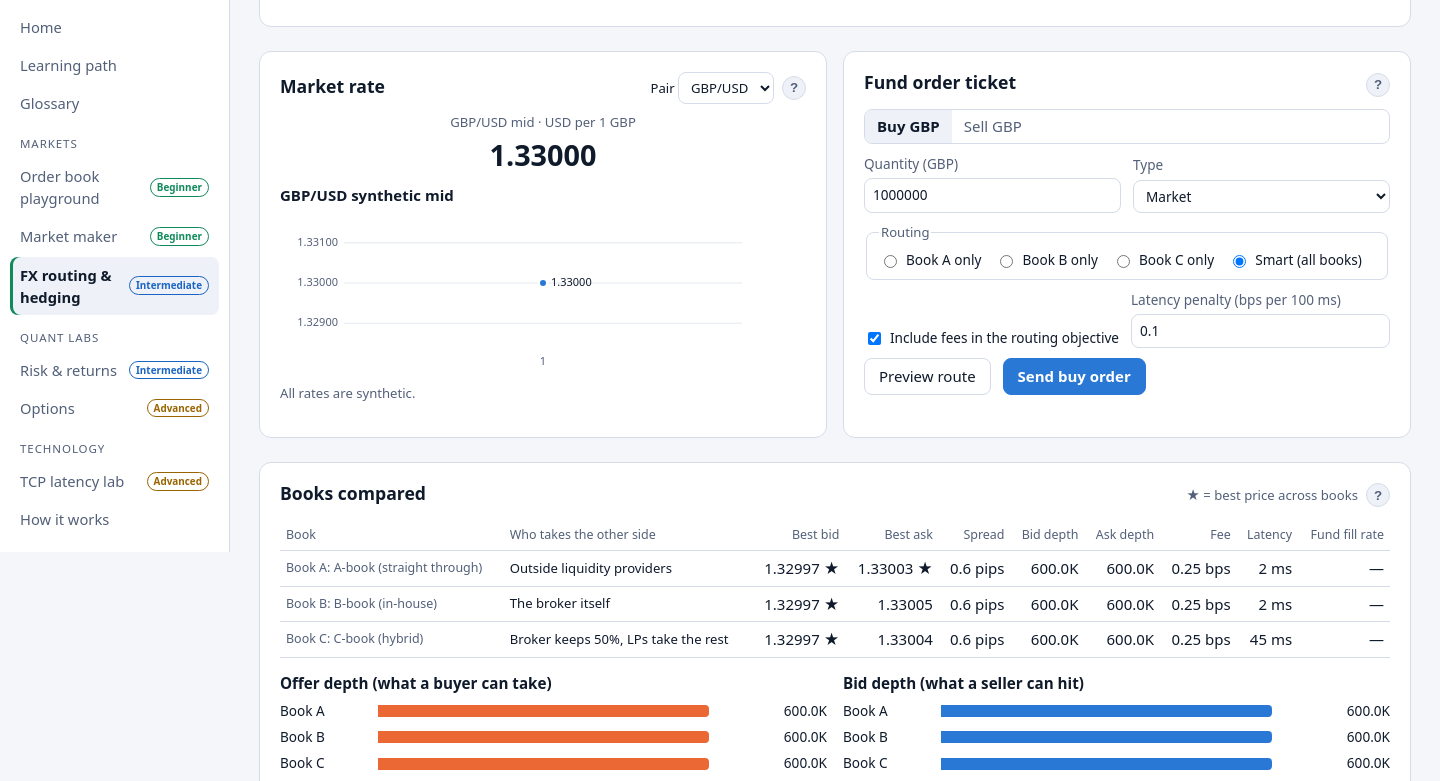
Scenario: FX routing page › previews a route without sending an order
(page scrolled)
Click the button "Preview route" at (927, 377), box top-left (864, 358), bottom-right (991, 395)
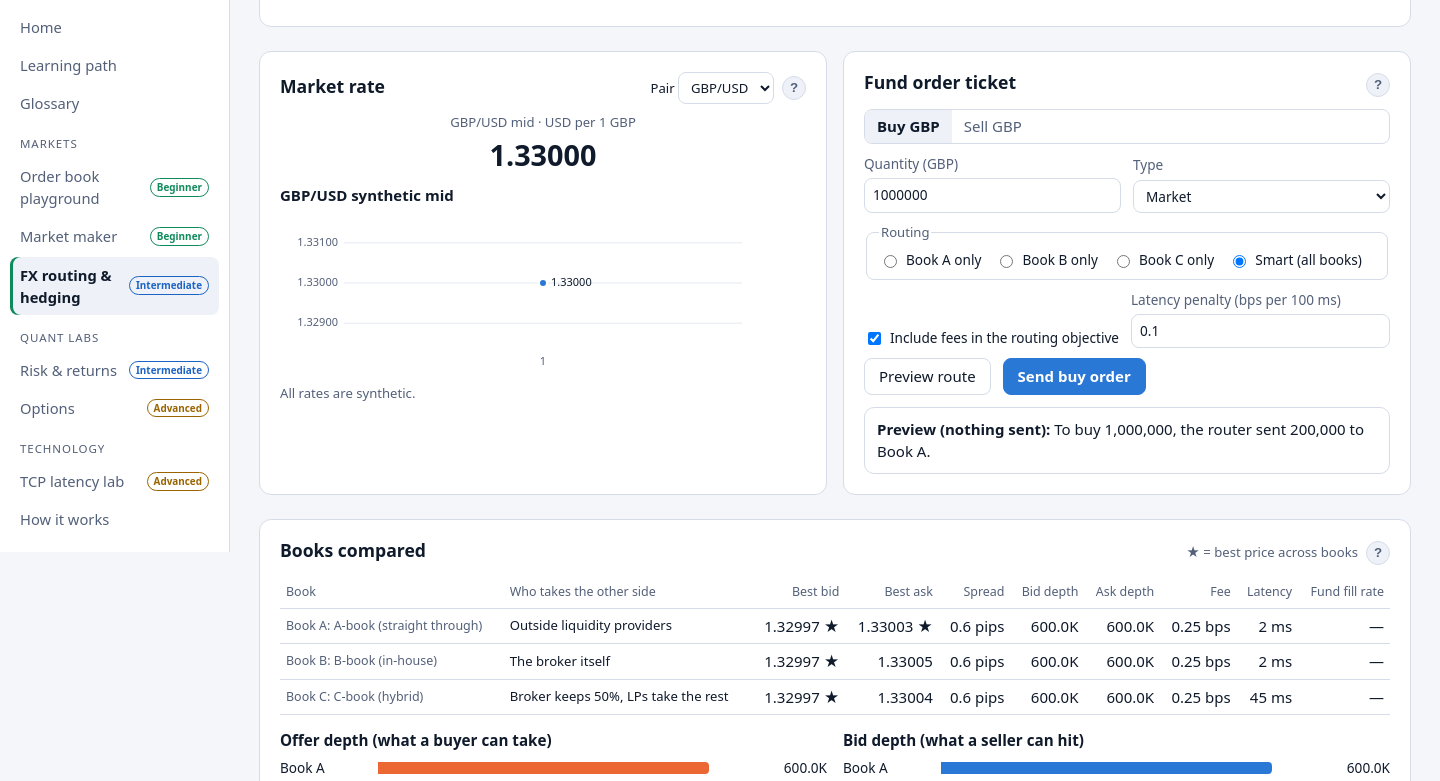
Now the text "Preview (nothing sent):" is shown, box top-left (877, 419), bottom-right (1050, 439)
